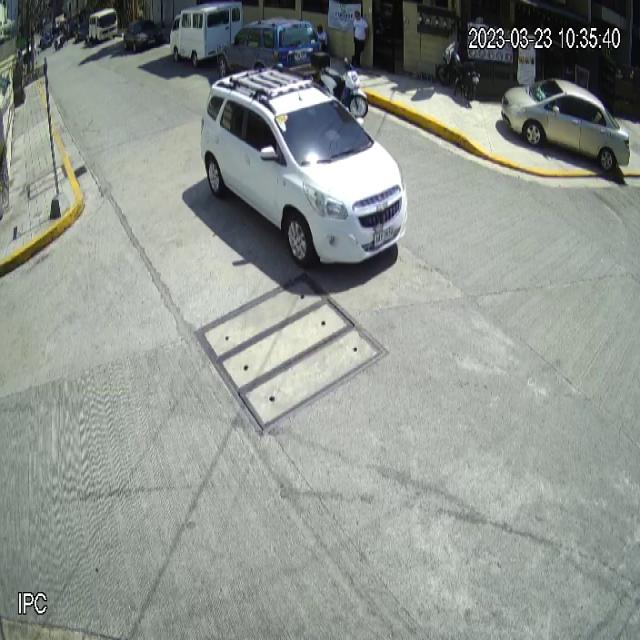Car: (199, 64, 408, 266), (501, 79, 631, 172), (217, 17, 322, 78)
Van: (170, 0, 243, 67)
